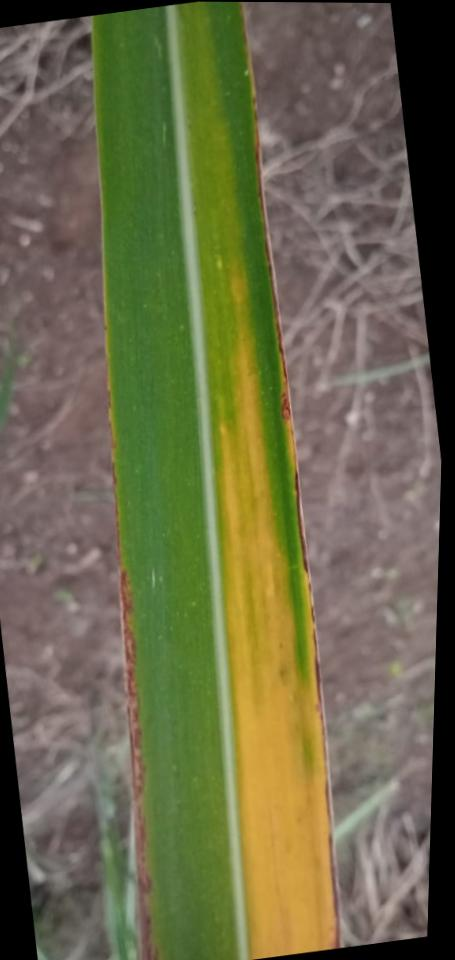Rust: (111, 460, 164, 960), (273, 317, 294, 438), (109, 418, 116, 453), (106, 388, 111, 407)
Yellow: (181, 1, 340, 959), (100, 257, 125, 564)
